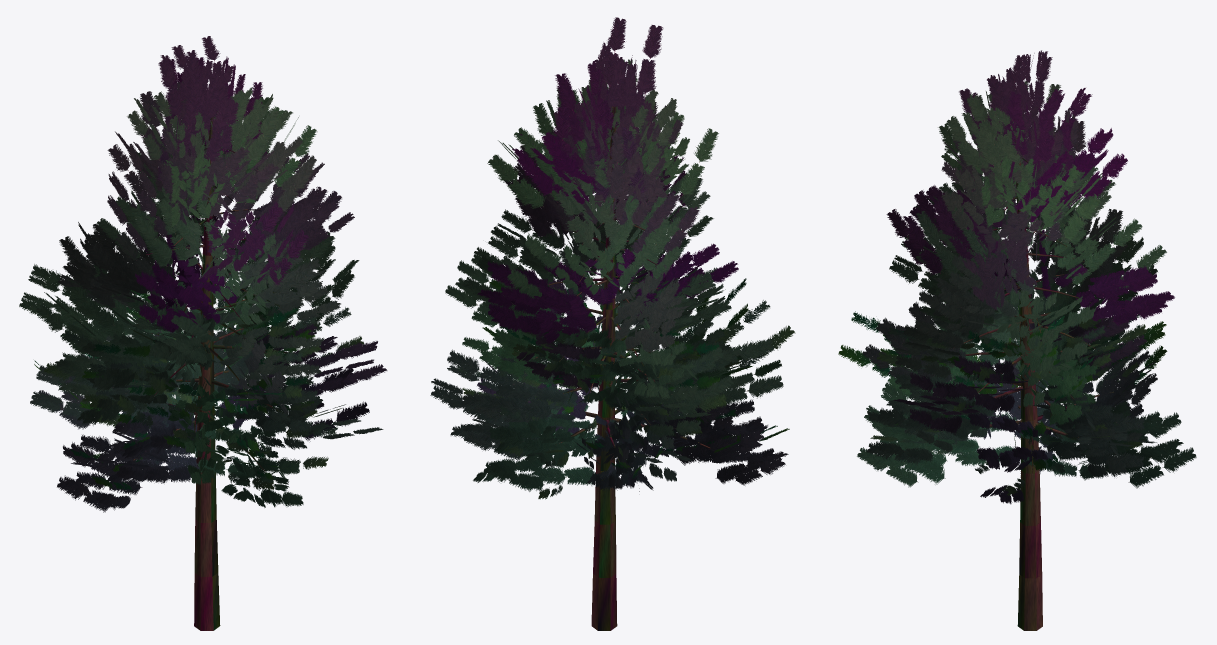
File: nat_pine_c_LOD1.glb
3 views of the same model, side by side, from view 1: azimuth 30°, elevation 25°; view 2: azimuth 150°, elevation 25°; view 3: azimuth 270°, elevation 25° (orthographic). The views are drawn at different scales.
Parts seen in each view (by area): view 1: nat_pine_c_LOD1; view 2: nat_pine_c_LOD1; view 3: nat_pine_c_LOD1.
Part boxes in pixels (left/top/right/bottom): nat_pine_c_LOD1: left=19, top=36, right=387, bottom=630; nat_pine_c_LOD1: left=430, top=17, right=795, bottom=630; nat_pine_c_LOD1: left=838, top=50, right=1196, bottom=630.
Size of the model in its own units: 8.51 by 14.84 by 8.37.
2 materials, 2 textured.
